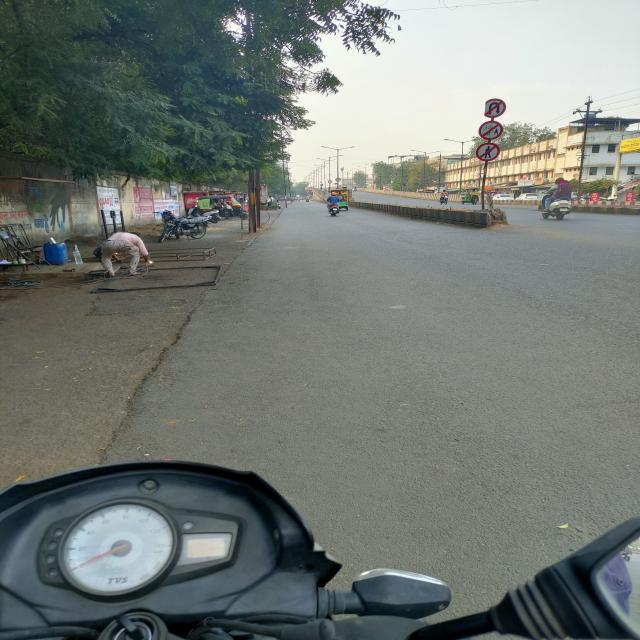railway_crossing: (478, 120, 503, 140)
